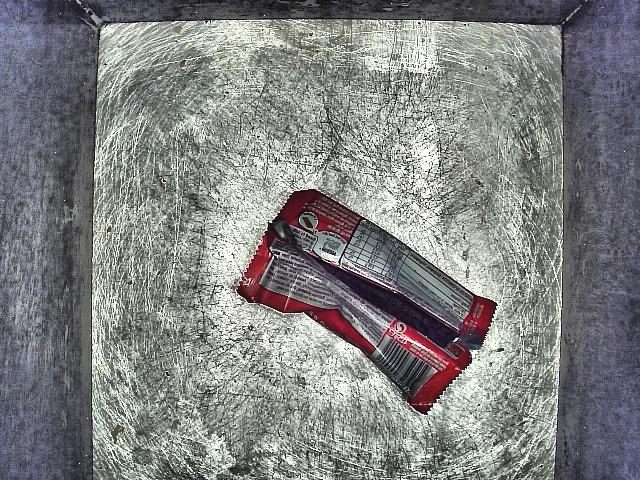Plastic: (211, 177, 503, 416)
